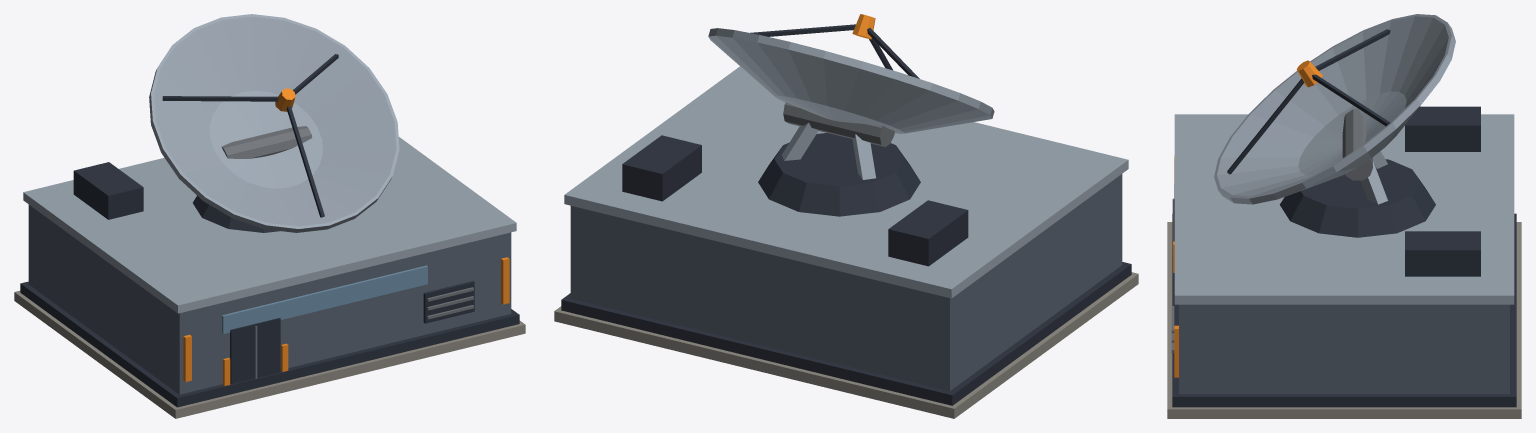
Rendered from installation-sensor.glb.
The picture shows the model from 3 angles, left to right: view 1: azimuth 30°, elevation 25°; view 2: azimuth 150°, elevation 25°; view 3: azimuth 270°, elevation 25°; orthographic projection. The views are drawn at different scales.
Parts seen in each view (by area): view 1: installation_sensor; view 2: installation_sensor; view 3: installation_sensor.
Part boxes in pixels (x1,y1,x2,y2): installation_sensor: [14, 14, 525, 418]; installation_sensor: [554, 14, 1138, 418]; installation_sensor: [1167, 14, 1521, 418].
Bounding box in the file's own units: 9.92 × 7.15 × 7.92.
